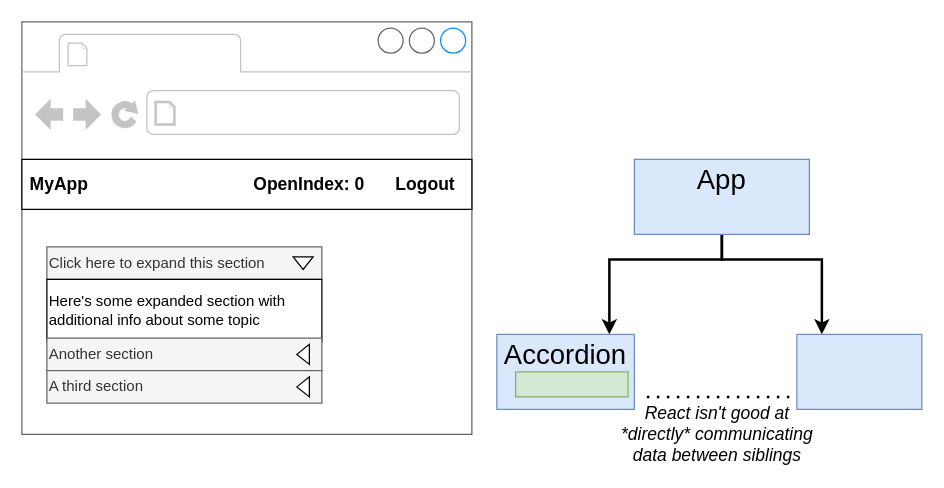
The diagram is 944 pixels wide and 488 high, and some of its shapes have lost their labels. Each missing label, with the centre of its shape:
expandedIndex: point (571, 384)
NavBar: point (859, 371)
Page 1: point (165, 52)
